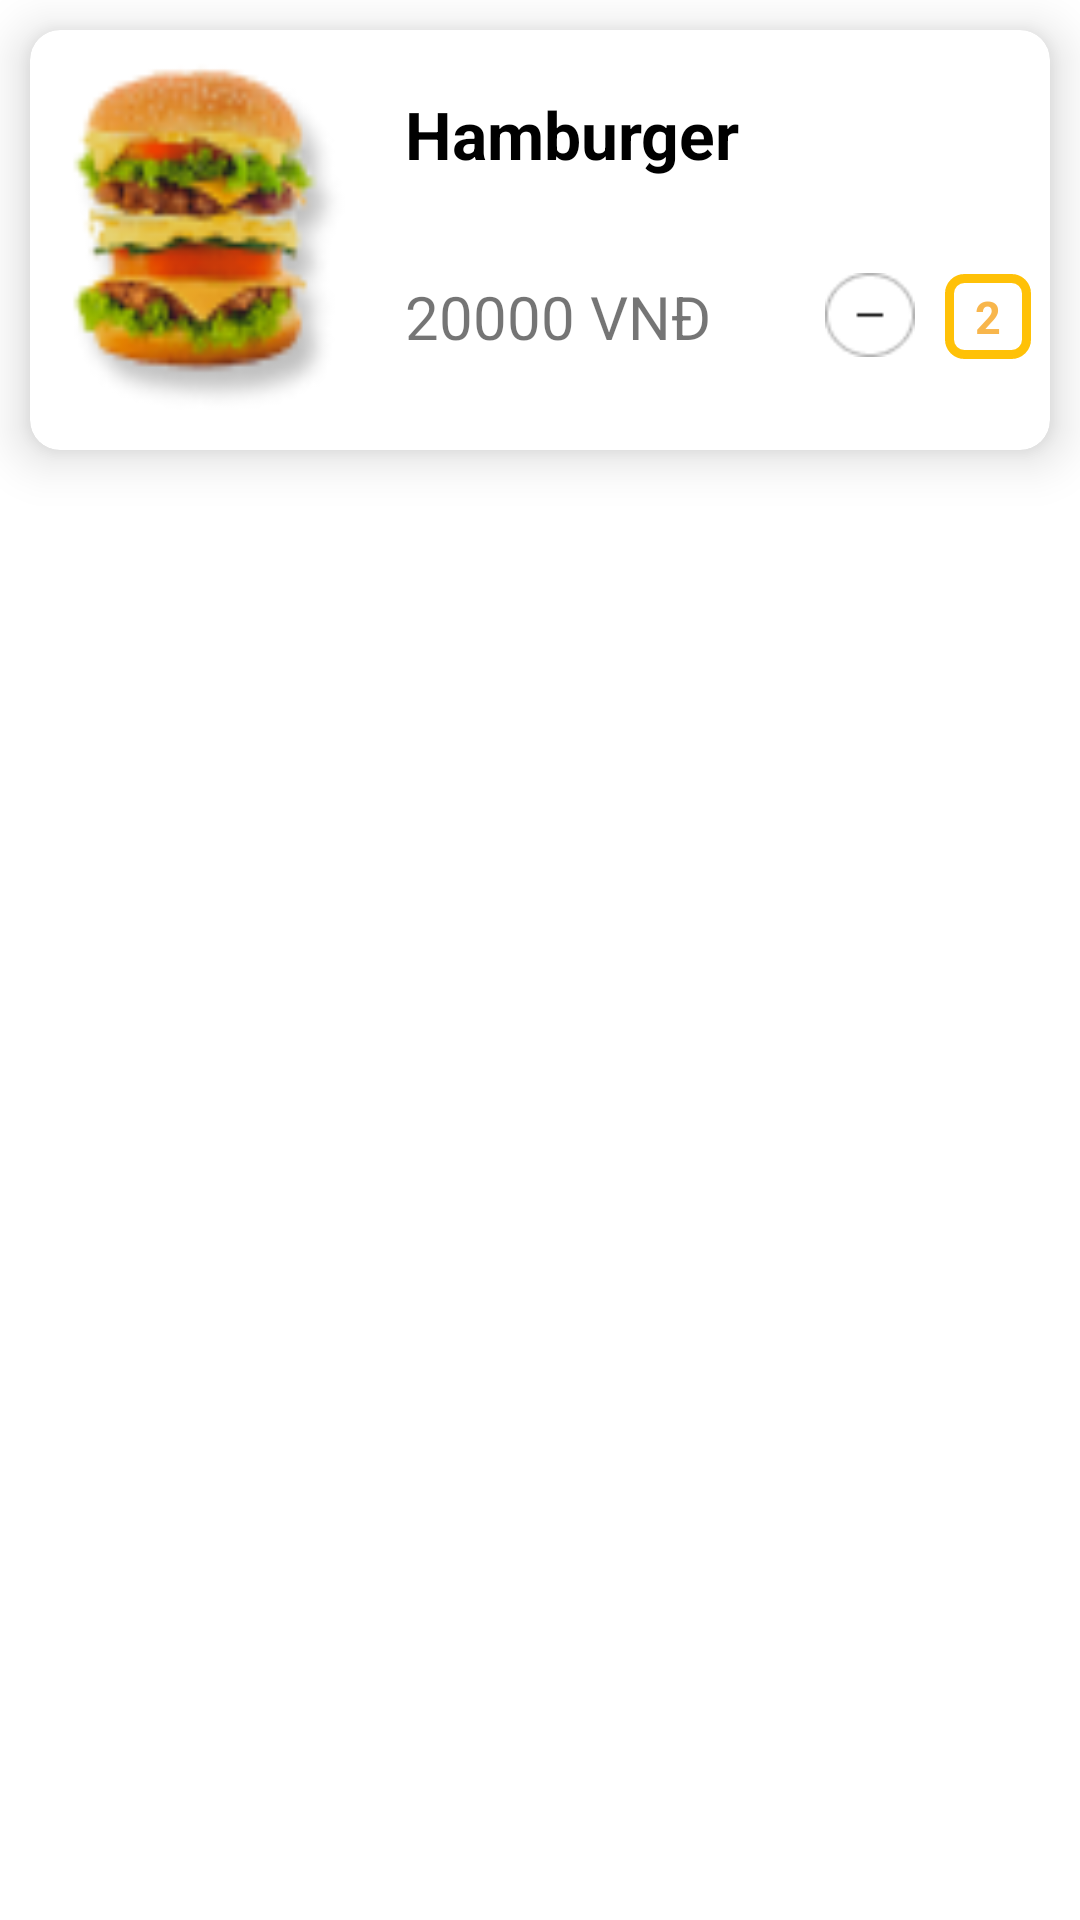

Named icons in this screenshot (1080px×1920px) and their centers, (x,y):
food: (200,230)
minus: (870,315)
